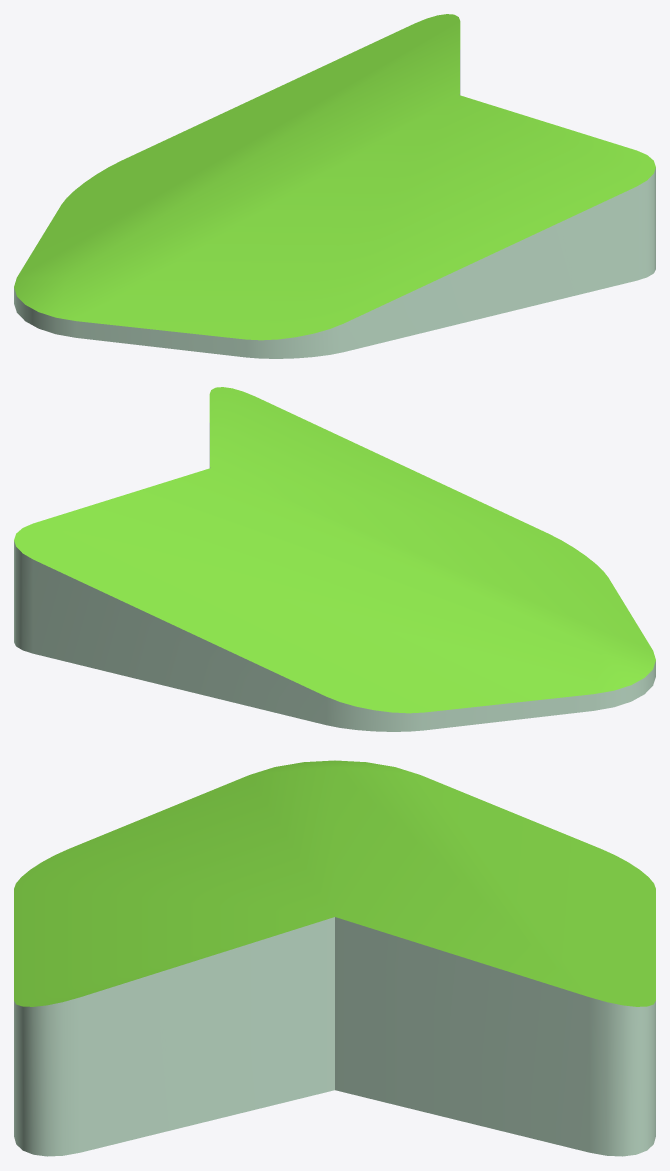
File: Indicador.fbx
3 renders of one model, top to bottom at view 1: azimuth 30°, elevation 25°; view 2: azimuth 150°, elevation 25°; view 3: azimuth 270°, elevation 25°, orthographic. The views are drawn at different scales.
Visible parts, largest first — view 1: Verde Lat; view 2: Verde Lat; view 3: Verde Lat.
Boxes of the visible parts, x1,y1,x2,y2 form: Verde Lat: [14, 14, 655, 358]; Verde Lat: [14, 387, 655, 731]; Verde Lat: [14, 760, 655, 1156].
Size of the model in its own units: 137 by 29.77 by 100.
